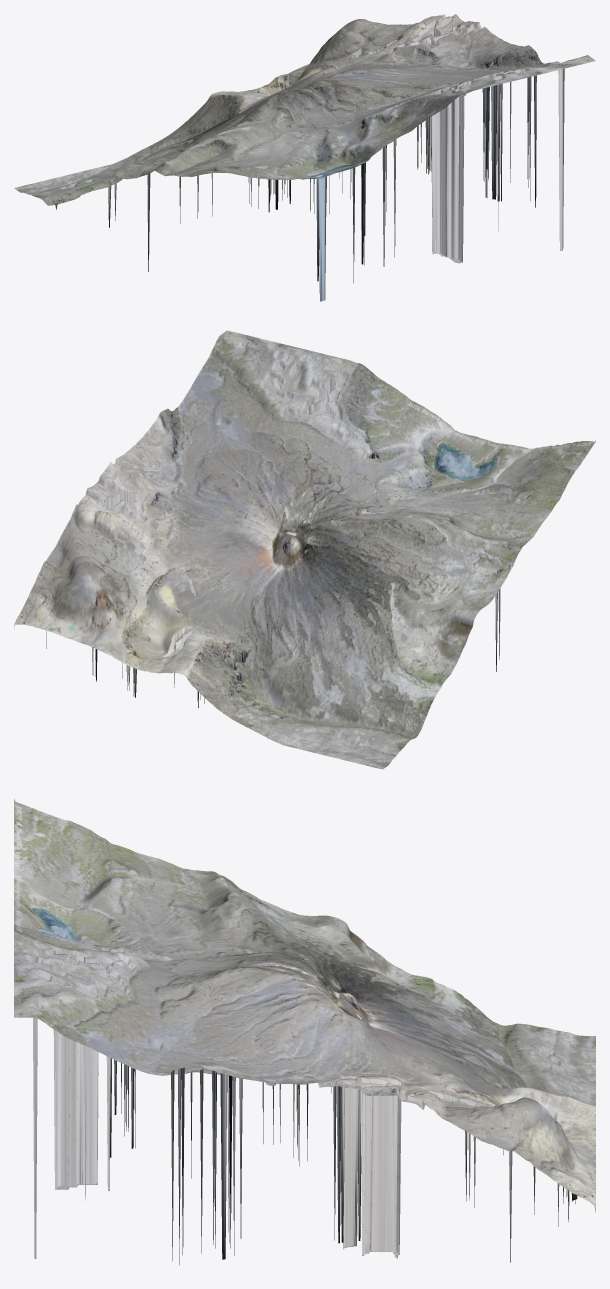
The model's file is dsm_7d57106c3b_mesh.glb.
3 renders of one model, top to bottom at view 1: azimuth 30°, elevation 25°; view 2: azimuth 150°, elevation 25°; view 3: azimuth 270°, elevation 25°, orthographic. The views are drawn at different scales.
Visible parts, largest first — view 1: geometry_0; view 2: geometry_0; view 3: geometry_0.
Part boxes in pixels (<box>): geometry_0: <box>14,14,595,301</box>; geometry_0: <box>14,330,595,769</box>; geometry_0: <box>14,799,595,1264</box>.
Bounding box in the file's own units: 2 × 1 × 2.
